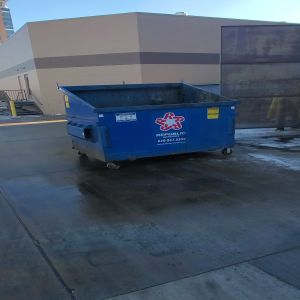Dumpster: (56, 79, 240, 170)
